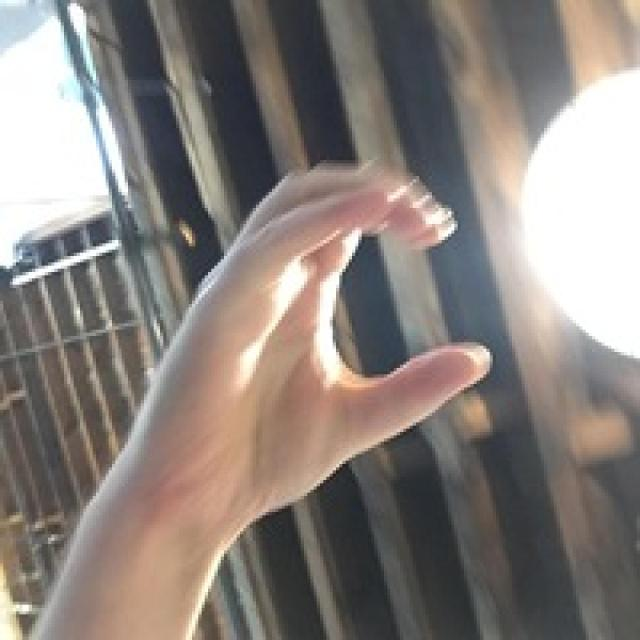C: (82, 105, 509, 587)
